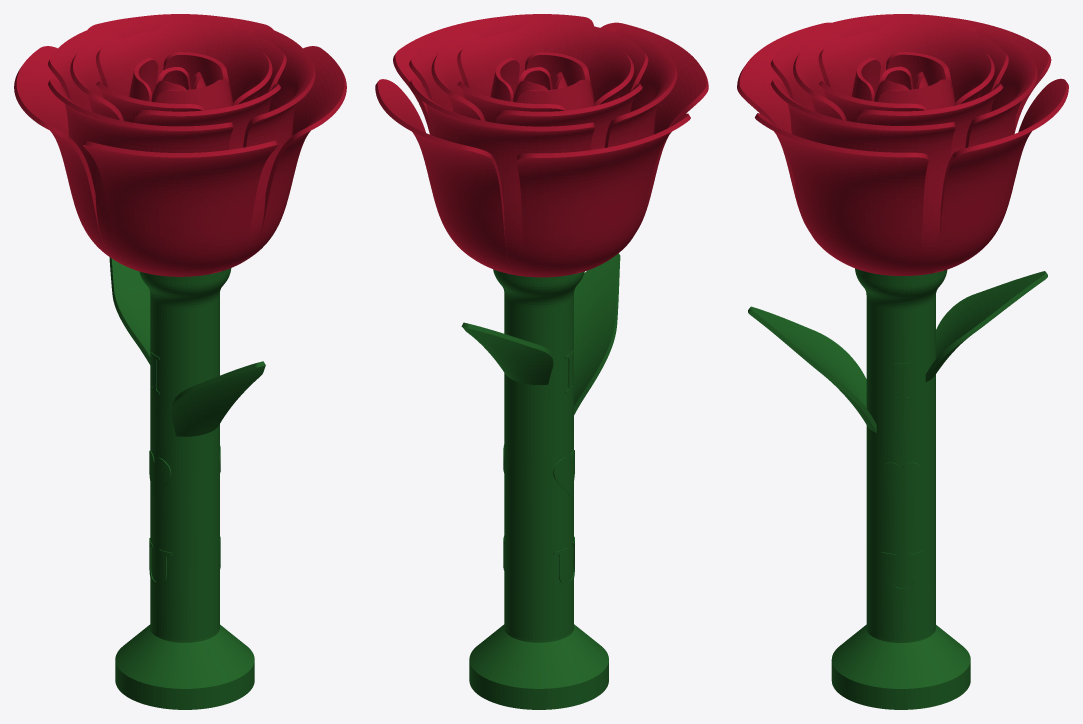
The model's file is Gul.glb.
The picture shows the model from 3 angles, left to right: view 1: azimuth 30°, elevation 25°; view 2: azimuth 150°, elevation 25°; view 3: azimuth 270°, elevation 25°; orthographic projection.
Parts seen in each view (by area): view 1: Gül Dallı Ayrı_Gül, Gül Dallı Ayrı_Dal; view 2: Gül Dallı Ayrı_Gül, Gül Dallı Ayrı_Dal; view 3: Gül Dallı Ayrı_Gül, Gül Dallı Ayrı_Dal.
Part boxes in pixels (box(x1,y1,x2,y2)): Gül Dallı Ayrı_Gül: box(14, 14, 346, 276); Gül Dallı Ayrı_Dal: box(109, 257, 265, 709); Gül Dallı Ayrı_Gül: box(375, 14, 708, 277); Gül Dallı Ayrı_Dal: box(461, 253, 620, 709); Gül Dallı Ayrı_Gül: box(737, 14, 1068, 275); Gül Dallı Ayrı_Dal: box(748, 268, 1047, 709).
Size of the model in its own units: 71.63 by 146 by 71.63.
